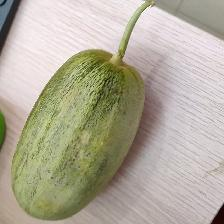gua: (49, 73, 108, 182)
